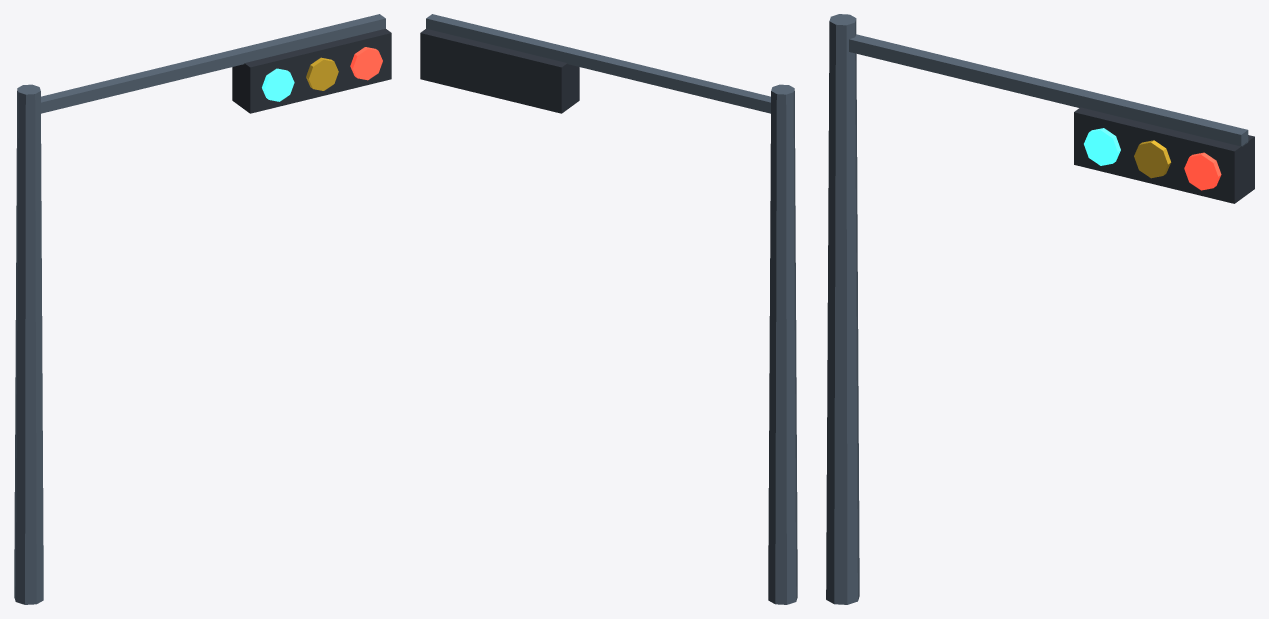
File: city_traffic_light.glb
3 renders of one model, left to right at view 1: azimuth 30°, elevation 25°; view 2: azimuth 150°, elevation 25°; view 3: azimuth 330°, elevation 25°, orthographic. The views are drawn at different scales.
Visible parts, largest first — view 1: city_traffic_light_steel, city_traffic_light_steelDark, city_traffic_light_glow, city_traffic_light_yellow, city_traffic_light_glowRed; view 2: city_traffic_light_steel, city_traffic_light_steelDark; view 3: city_traffic_light_steel, city_traffic_light_steelDark, city_traffic_light_yellow, city_traffic_light_glowRed, city_traffic_light_glow.
Part boxes in pixels (left/top/right/bottom): city_traffic_light_steel: left=14, top=14, right=385, bottom=604; city_traffic_light_steelDark: left=232, top=28, right=391, bottom=113; city_traffic_light_glow: left=262, top=68, right=294, bottom=101; city_traffic_light_yellow: left=306, top=57, right=338, bottom=90; city_traffic_light_glowRed: left=350, top=47, right=382, bottom=80; city_traffic_light_steel: left=426, top=14, right=797, bottom=604; city_traffic_light_steelDark: left=420, top=28, right=579, bottom=113; city_traffic_light_steel: left=826, top=14, right=1248, bottom=604; city_traffic_light_steelDark: left=1074, top=107, right=1254, bottom=203; city_traffic_light_yellow: left=1134, top=140, right=1171, bottom=178; city_traffic_light_glowRed: left=1184, top=152, right=1221, bottom=190; city_traffic_light_glow: left=1084, top=128, right=1120, bottom=165.
Size of the model in its own units: 4.15 by 5.5 by 0.405.
